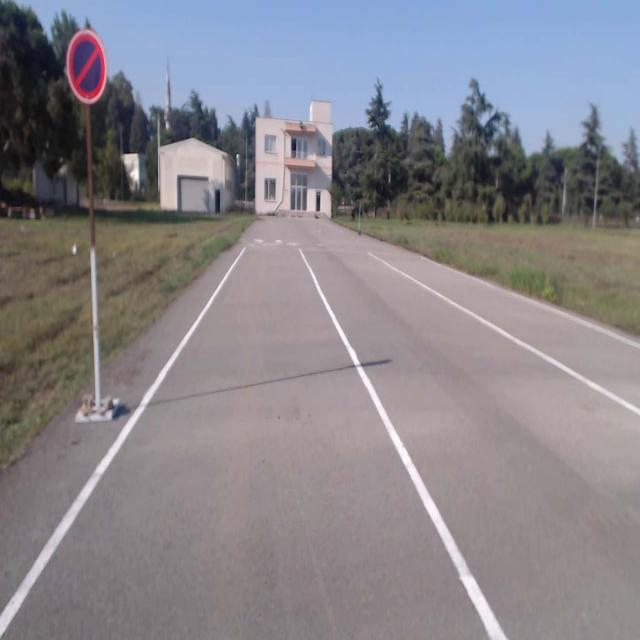parkyasak: (67, 29, 106, 103)
